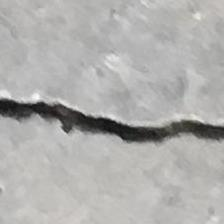Crack: (0, 80, 224, 183)
